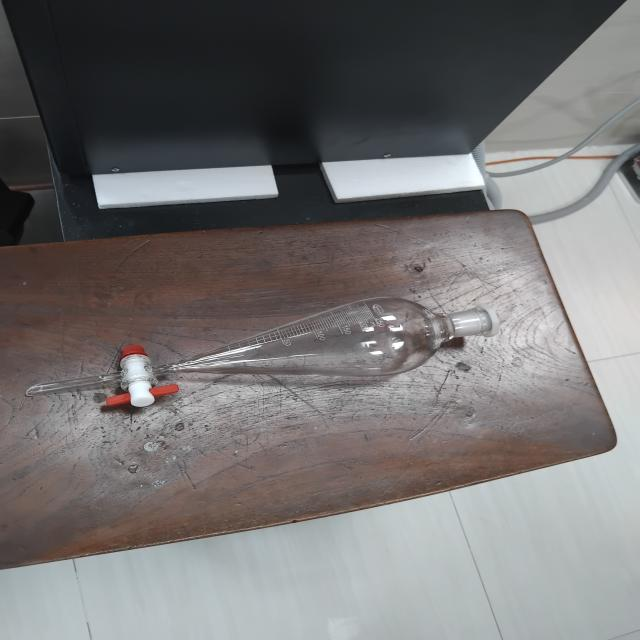Separating_Funnel: (9, 250, 512, 430)
